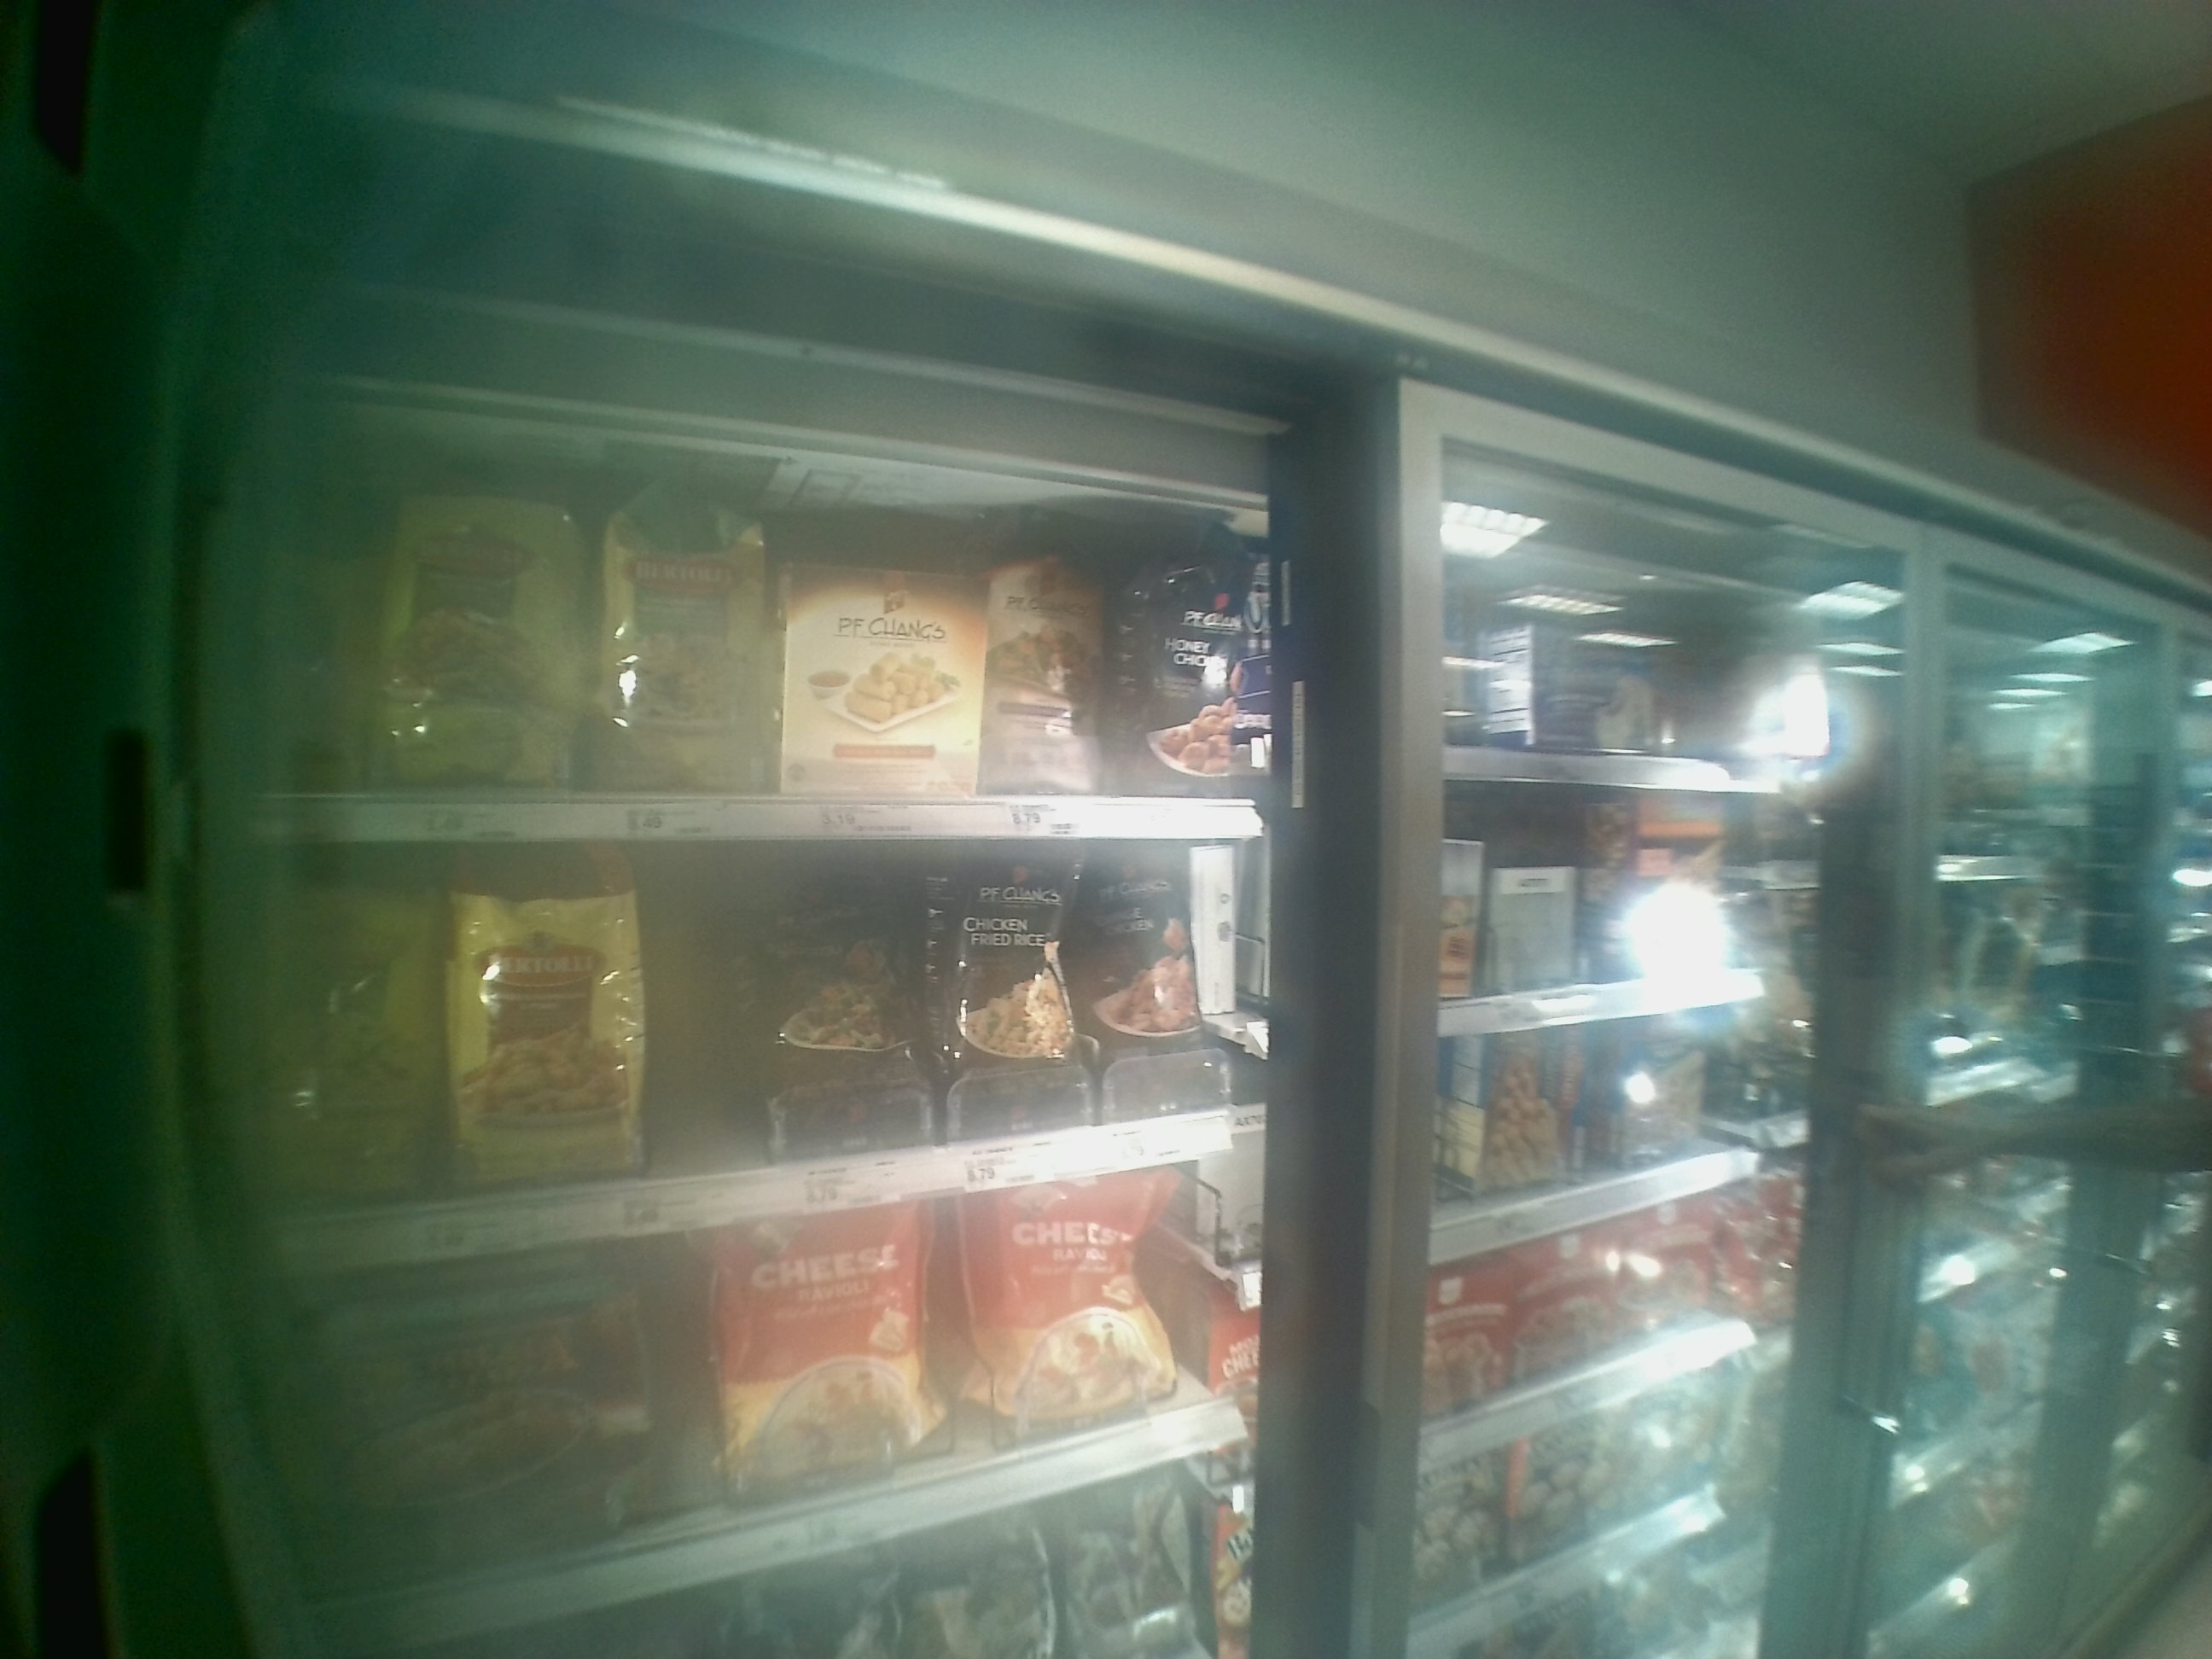shelf: (230, 817, 1263, 1185)
